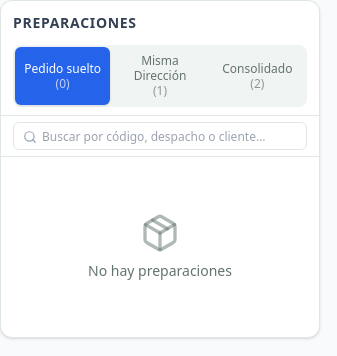
Test: PendingSidebar — pestañas y conteos › en la pestaña consolidado, un tipo no relacionado queda excluido
The image size is (337, 356).
What coordinates should you click on to do the following:
click the tab "Consolidado (2)"
I would click on:
 (257, 76)
Its box is [210,47,305,105].
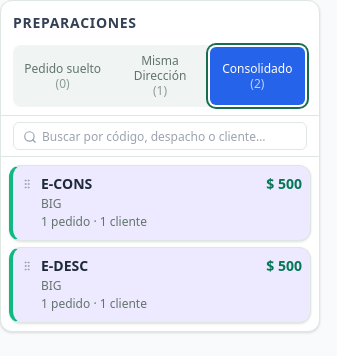
Now the text "E-CONS" is shown, box [41,174,92,194]
Now the text "E-DESC" is shown, box [41,256,88,276]
